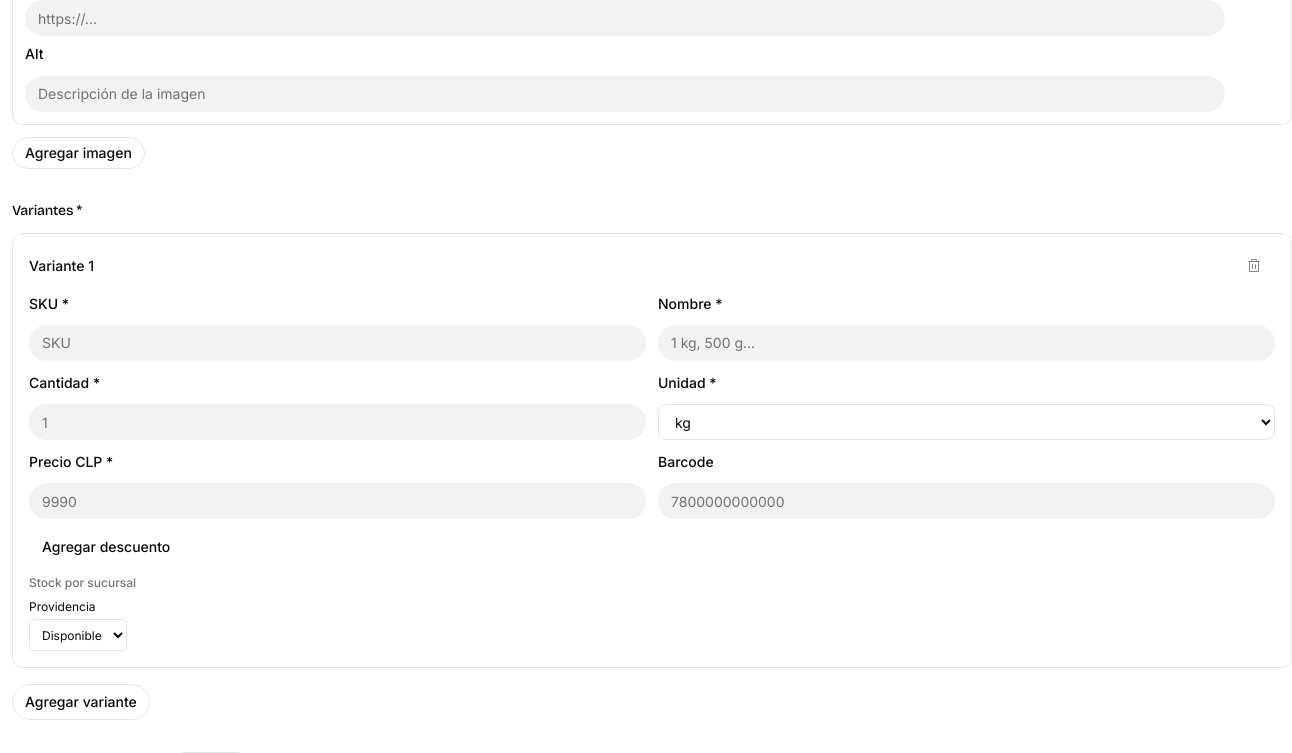
Test: ProductForm — variant array (Phase 9.1) › clicking trash on a variant row removes it; cannot remove the last one
(page scrolled)
# Add a second variant
Click the button "Agregar variante" at (81, 702), box [12,684,150,720]
(page scrolled)
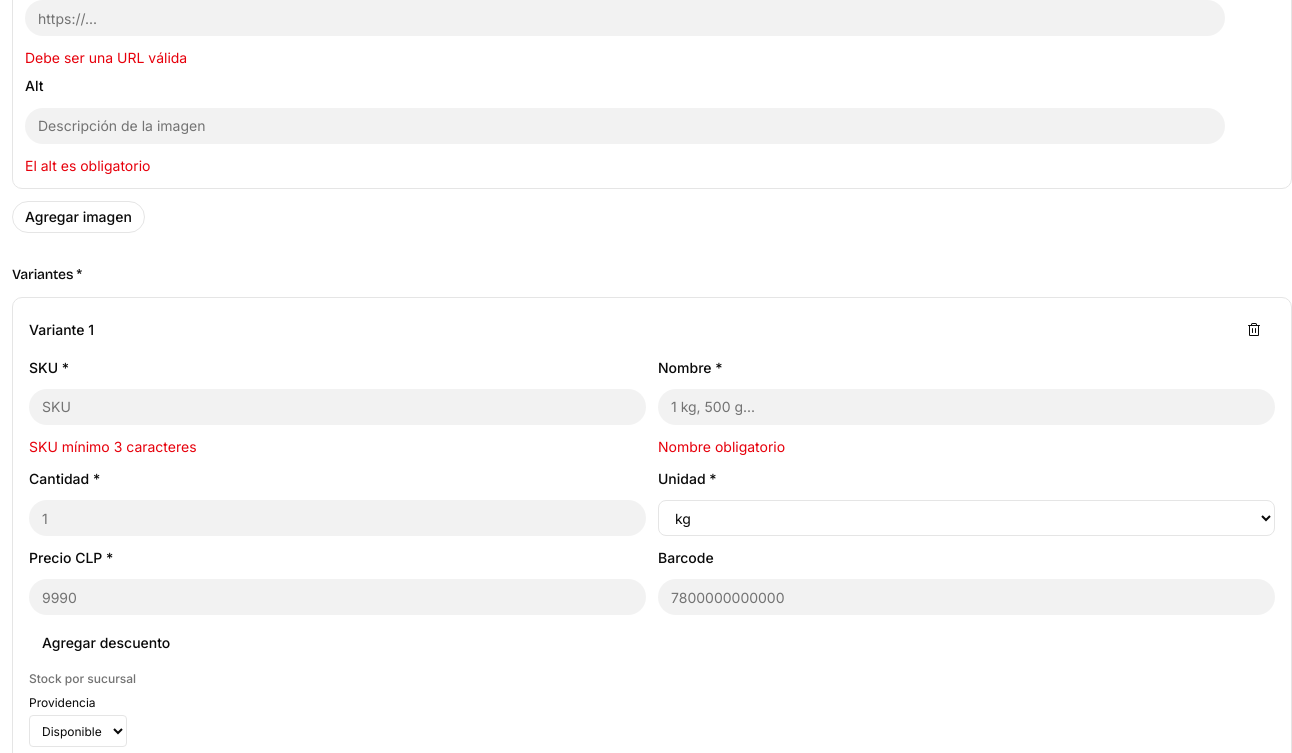
Expected: the number of fields with placeholder "SKU" is 2
Expected: the number of buttons named "eliminar variante" is 2
Click the button named "eliminar variante" at (1254, 330), box [1233,314,1275,346]
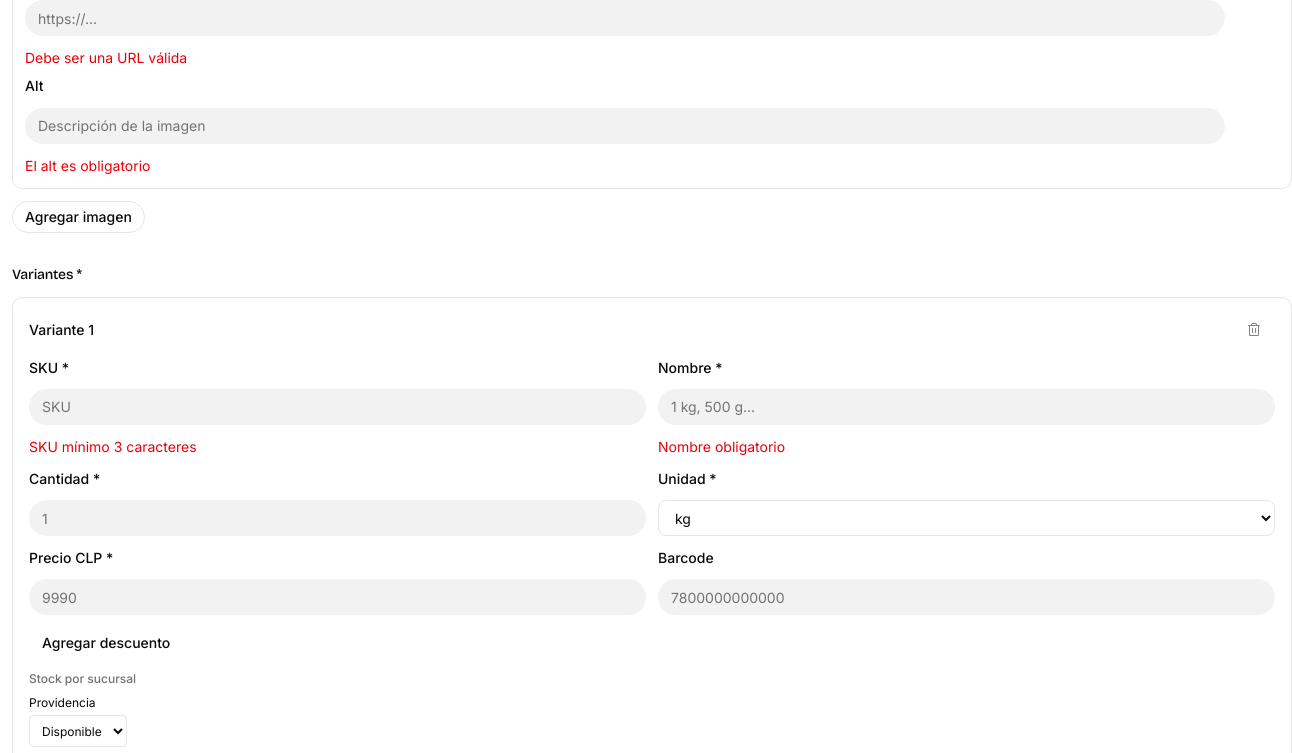
Expected: the number of fields with placeholder "SKU" is 1, [29,389,646,425]
Expected: the button named "eliminar variante" is disabled, [1233,314,1275,346]
